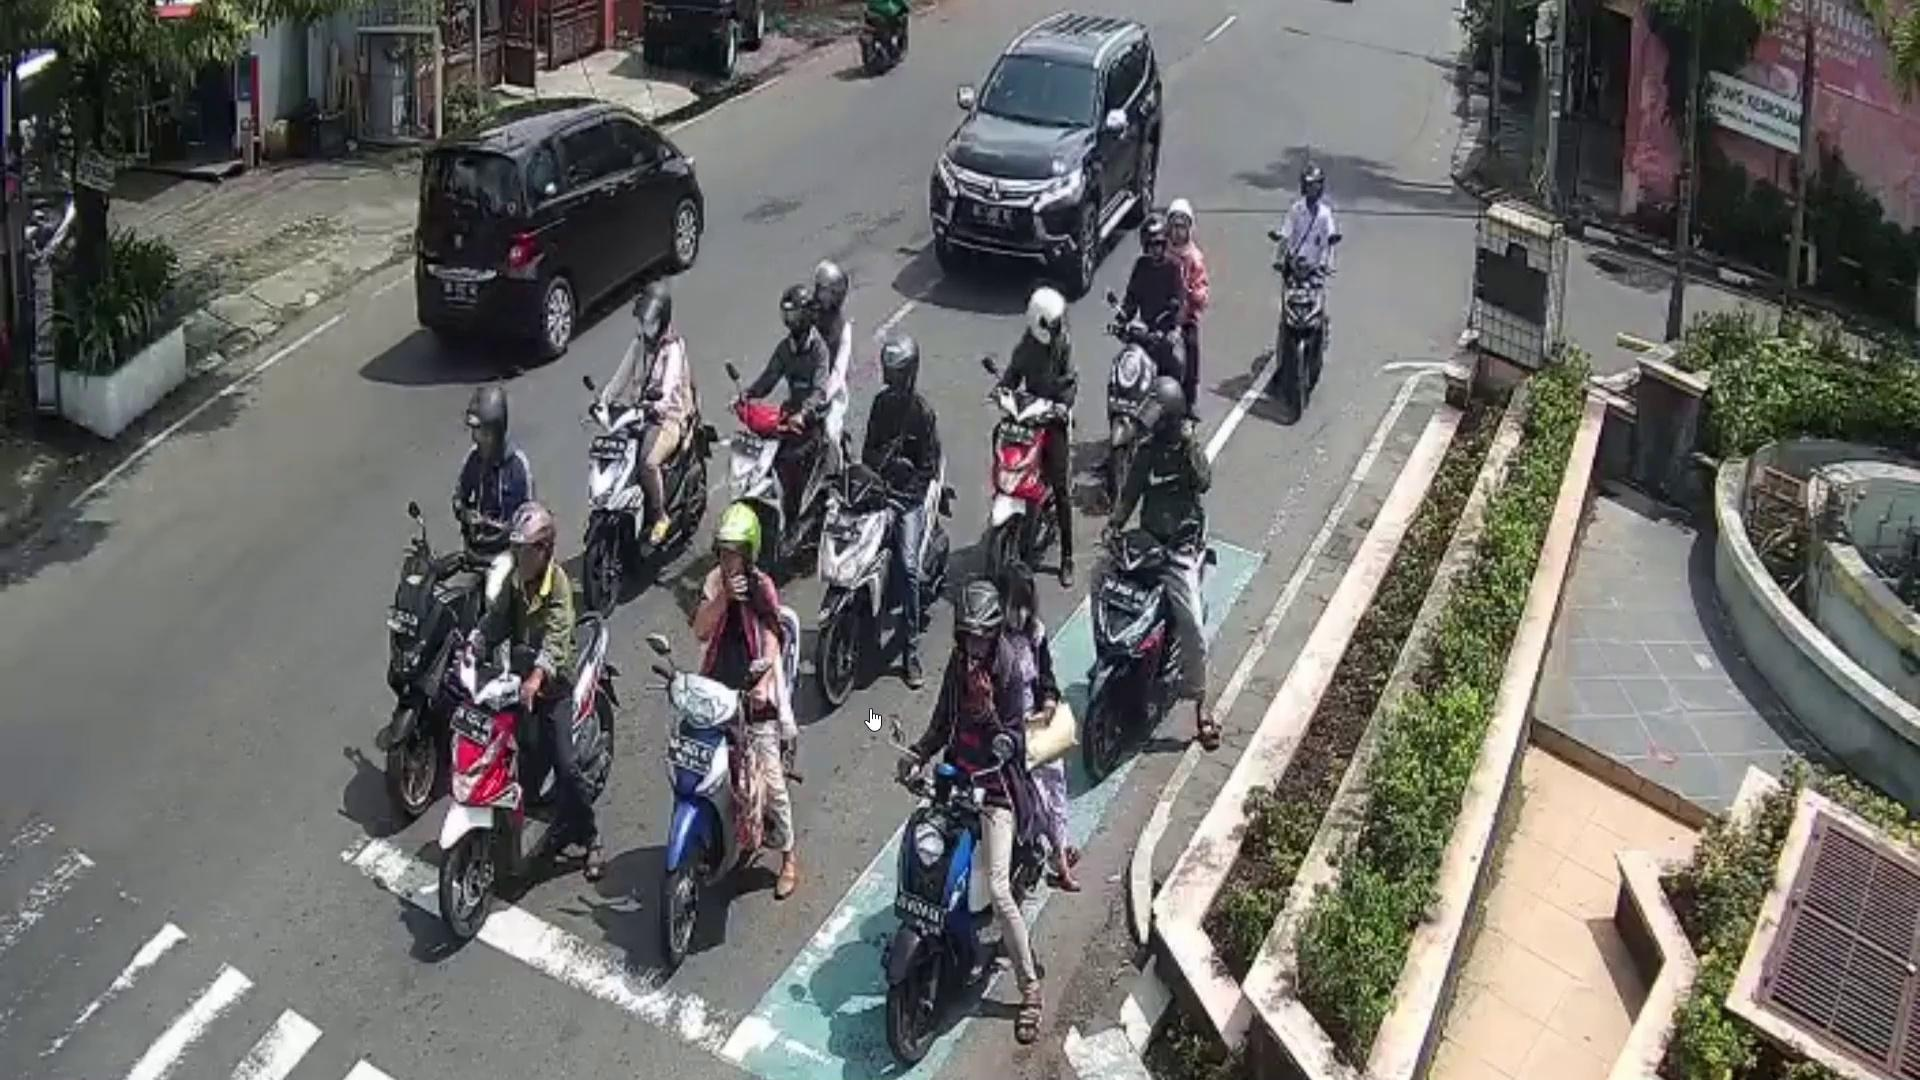car: (415, 96, 702, 361), (931, 15, 1160, 289)
motorbike: (440, 608, 611, 948), (659, 600, 806, 948), (818, 444, 947, 728), (899, 760, 994, 1065), (382, 542, 484, 822), (580, 381, 700, 601), (1095, 518, 1182, 775), (731, 390, 851, 537), (982, 388, 1055, 596), (1273, 260, 1327, 425)
